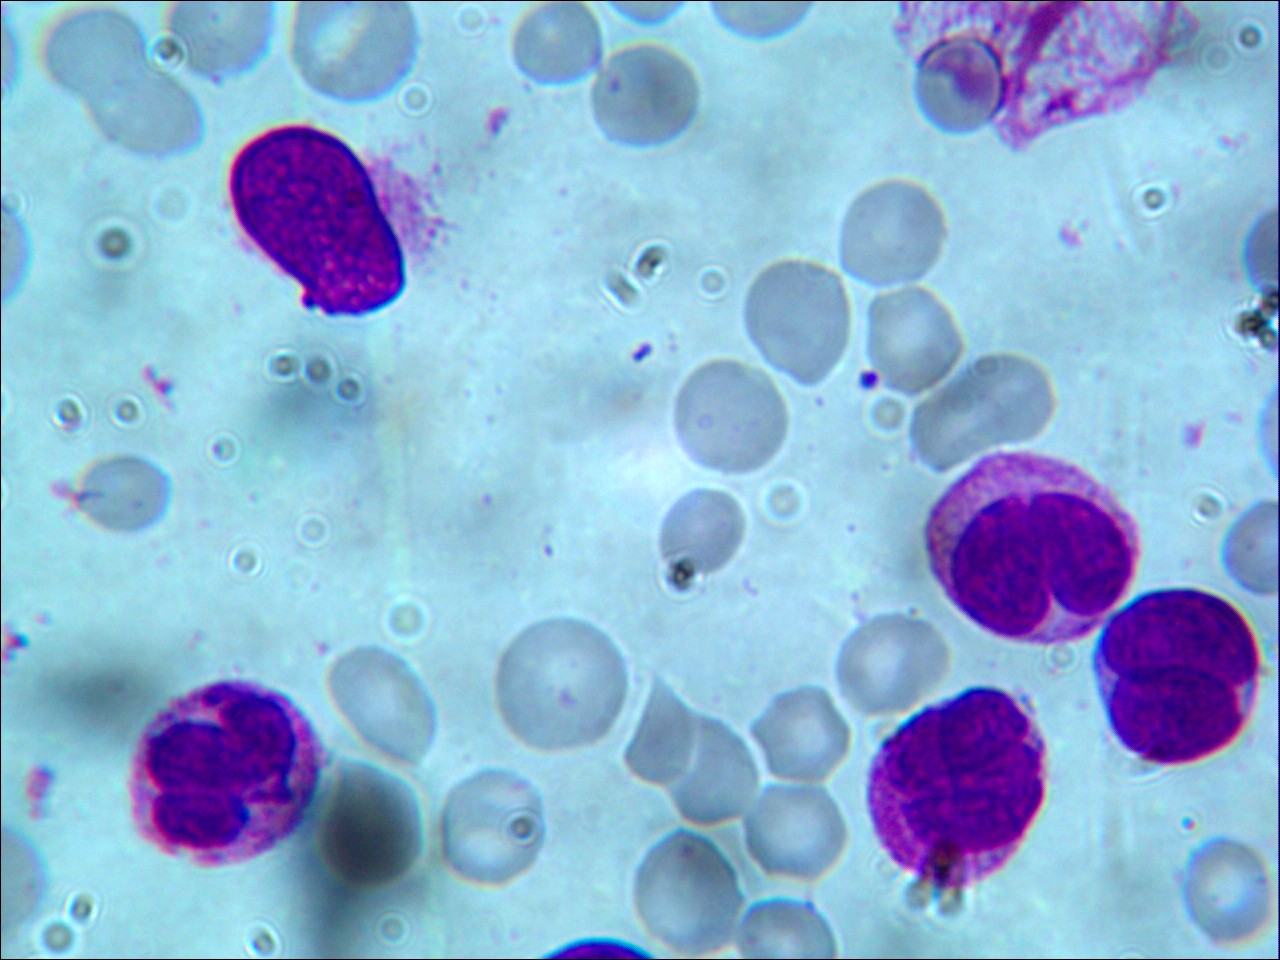Eosinofil: (918, 450, 1146, 653)
Eritrosit: (495, 614, 625, 759), (667, 353, 793, 481), (740, 252, 855, 390), (631, 825, 742, 960), (323, 642, 439, 765), (853, 278, 971, 396), (436, 769, 549, 886), (836, 611, 952, 721), (1173, 831, 1280, 943), (842, 179, 953, 286), (589, 42, 702, 147), (287, 1, 412, 96), (84, 62, 203, 159), (659, 715, 761, 828), (745, 781, 853, 881), (37, 3, 145, 100), (955, 343, 1055, 446), (749, 681, 845, 786), (161, 1, 274, 81), (655, 490, 752, 580), (73, 455, 171, 542), (508, 1, 603, 84), (915, 389, 987, 474)
Limfoblast: (227, 127, 414, 318), (1087, 592, 1264, 768)
Neutrofil: (118, 677, 325, 871), (864, 687, 1050, 887)
Platelet: (852, 362, 887, 399), (1171, 814, 1211, 843), (627, 331, 655, 368)
